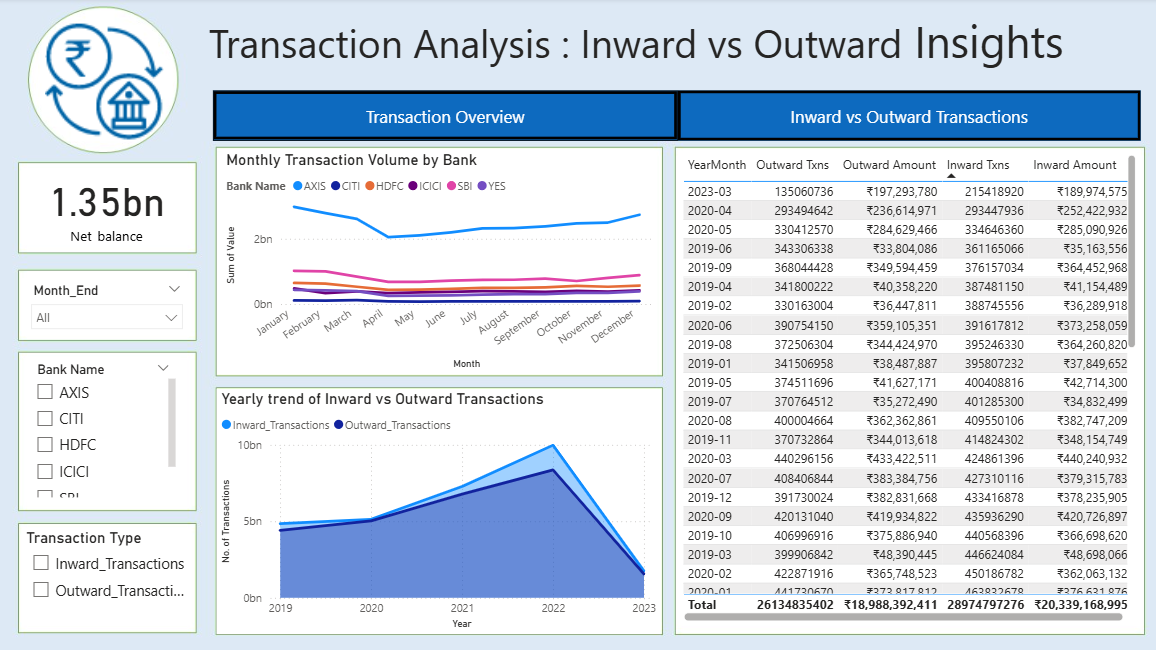

What the dashboard file says about the page in this screenshot:
{"tool":"powerbi","page":{"name":"Page 2","canvas":[1280,720],"ordinal":1},"visuals":[{"type":"lineChart","title":"Monthly Transaction Volume by Bank","fields":{"Series":["Append1.Bank Name"],"Category":["Append1.Month_End.Variation.Date Hierarchy.Month"],"Y":["Sum(Append1.Value)"]},"box":[245.6,167.4,477.5,245.6],"z":0},{"type":"areaChart","title":"Yearly trend of Inward vs Outward Transactions","fields":{"Series":["Append1.Attribute"],"Category":["Append1.Month_End.Variation.Date Hierarchy.Year"],"Y":["Sum(Append1.Value)"]},"box":[240.1,429.5,487.1,269],"z":1000},{"type":"slicer","fields":{"Values":["Append1.Month_End"]},"box":[26.1,307.4,186.6,63.1],"z":2000},{"type":"slicer","title":"Transaction Type","fields":{"Values":["Append1.Attribute"]},"box":[26.1,581.8,186.6,107],"z":3000},{"type":"slicer","fields":{"Values":["Append1.Bank Name"]},"box":[30.2,393.8,170.2,159.2],"z":4000},{"type":"textbox","box":[226.4,9.6,974.3,82.3],"z":5000},{"type":"image","box":[26.1,23.3,181.1,137.2],"z":6000},{"type":"tableEx","fields":{"Values":["Append1.YearMonth","Append1.Outward Txns","Append1.Outward Amount","Append1.Inward Txns","Append1.Inward Amount"]},"box":[746.5,167.4,507.7,521.4],"z":7000},{"type":"card","fields":{"Values":["Append1.Net_balance"]},"box":[26.1,186.6,186.6,85.1],"z":8000},{"type":"actionButton","box":[746.5,101.5,507.7,54.9],"z":9000},{"type":"actionButton","box":[236,101.5,510.5,54.9],"z":10000}]}

Visuals, with their boxes in screenshot pixels (x1, y1, x2, y2), scaled from the page's 1280x720 canvas onto the 1156x650 screenshot:
"Monthly Transaction Volume by Bank" lineChart: (left=222, top=151, right=653, bottom=373)
"Yearly trend of Inward vs Outward Transactions" areaChart: (left=217, top=388, right=657, bottom=631)
slicer - Append1.Month_End: (left=24, top=278, right=192, bottom=334)
"Transaction Type" slicer: (left=24, top=525, right=192, bottom=622)
slicer - Append1.Bank Name: (left=27, top=356, right=181, bottom=499)
textbox: (left=204, top=9, right=1084, bottom=83)
image: (left=24, top=21, right=187, bottom=145)
tableEx - Append1.YearMonth x Append1.Outward Txns: (left=674, top=151, right=1133, bottom=622)
card - Append1.Net_balance: (left=24, top=168, right=192, bottom=245)
actionButton: (left=674, top=92, right=1133, bottom=141)
actionButton: (left=213, top=92, right=674, bottom=141)
